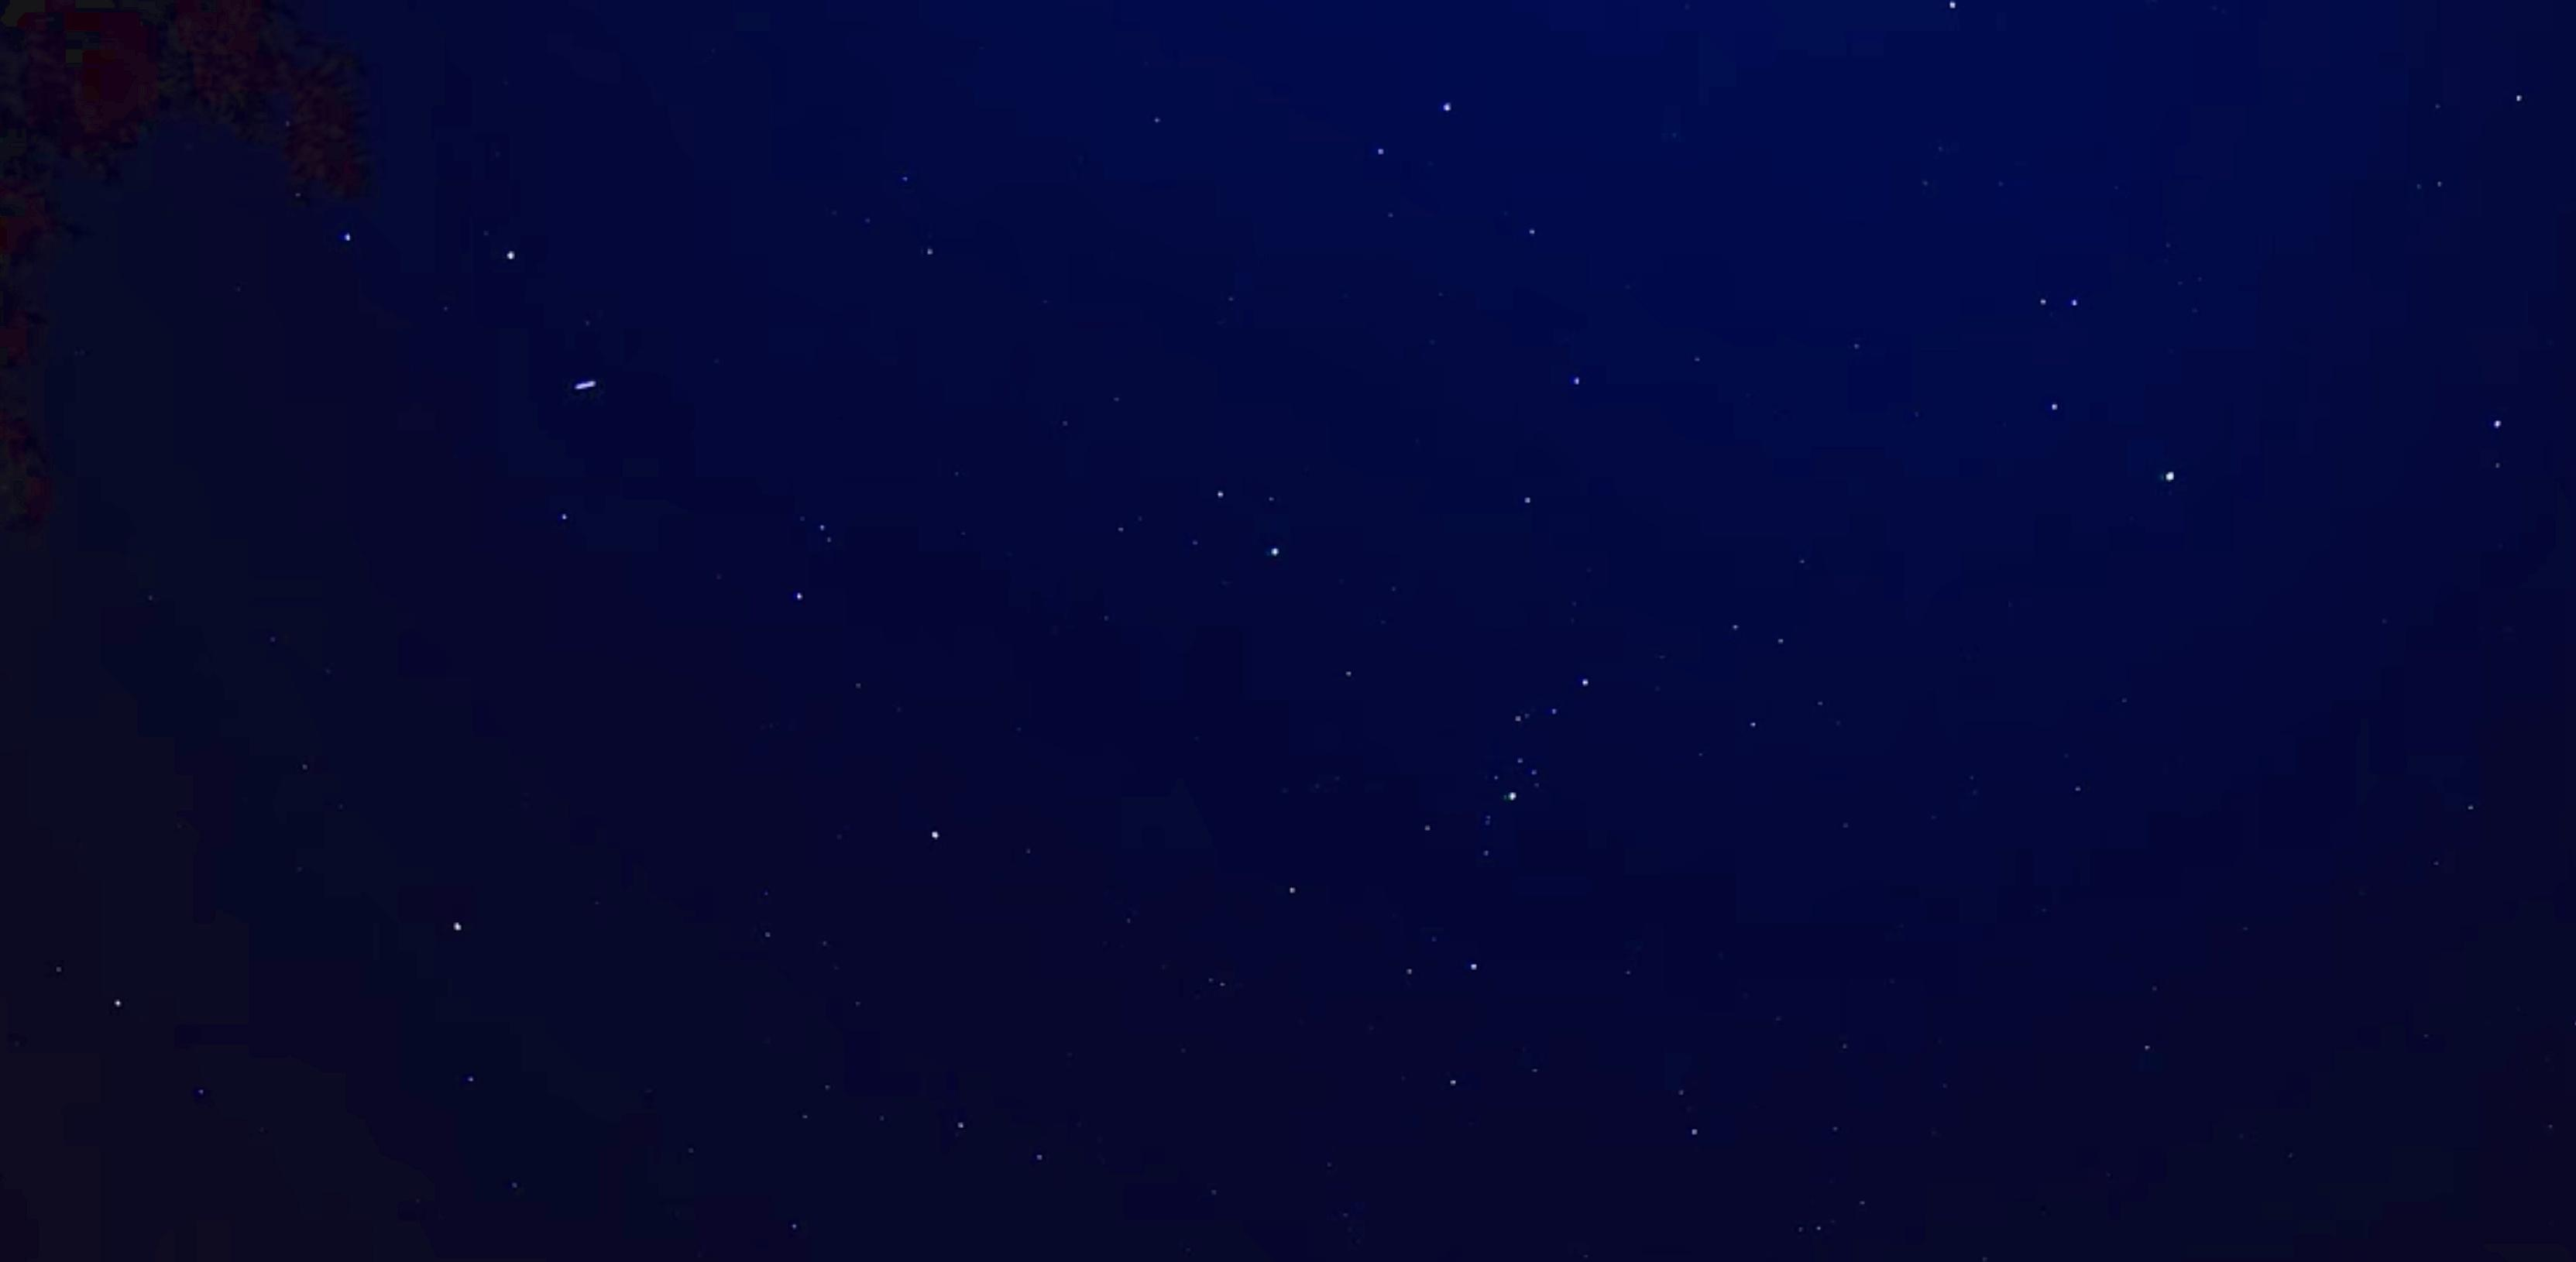meteorite: (554, 368, 619, 399)
